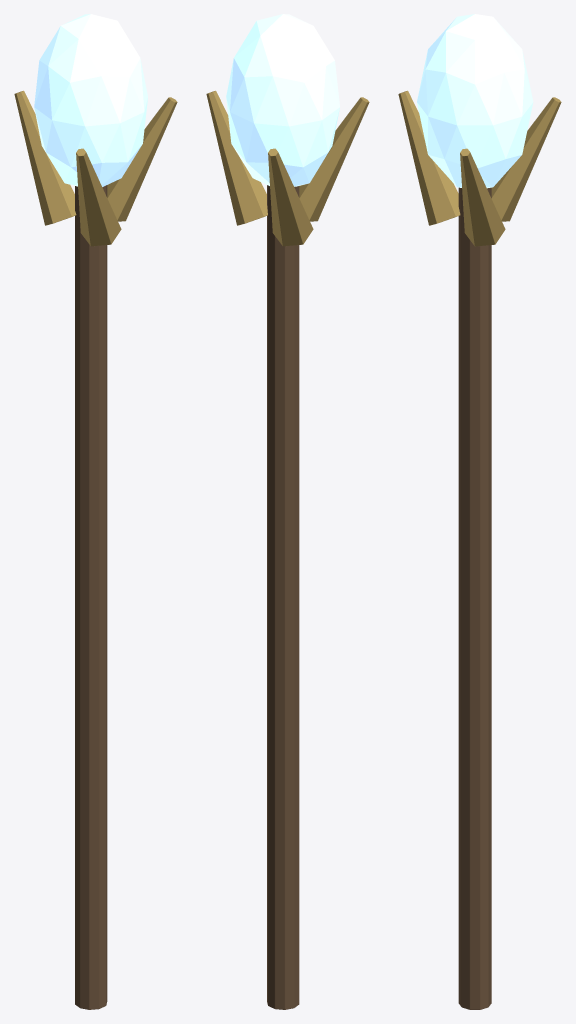
Rendered from arcane_staff.glb.
3 renders of one model, left to right at view 1: azimuth 30°, elevation 25°; view 2: azimuth 150°, elevation 25°; view 3: azimuth 270°, elevation 25°, orthographic.
Visible parts, largest first — view 1: StaffShaft, StaffFocus, FocusClaw.001, FocusClaw.002, FocusClaw; view 2: StaffShaft, StaffFocus, FocusClaw, FocusClaw.002, FocusClaw.001; view 3: StaffShaft, StaffFocus, FocusClaw.002, FocusClaw.001, FocusClaw.
Boxes of the visible parts, x1,y1,x2,y2 form: StaffShaft: (75,185,107,1009); StaffFocus: (34,14,147,186); FocusClaw.001: (14,90,76,225); FocusClaw.002: (76,148,121,246); FocusClaw: (107,97,177,221); StaffShaft: (267,185,299,1009); StaffFocus: (226,14,339,186); FocusClaw: (206,90,267,225); FocusClaw.002: (299,97,369,221); FocusClaw.001: (268,148,313,246); StaffShaft: (458,187,491,1009); StaffFocus: (417,14,533,188); FocusClaw.002: (398,90,460,225); FocusClaw.001: (491,97,561,221); FocusClaw: (460,148,505,246).
Bounding box in the file's own units: 14.5 × 105 × 15.74.
